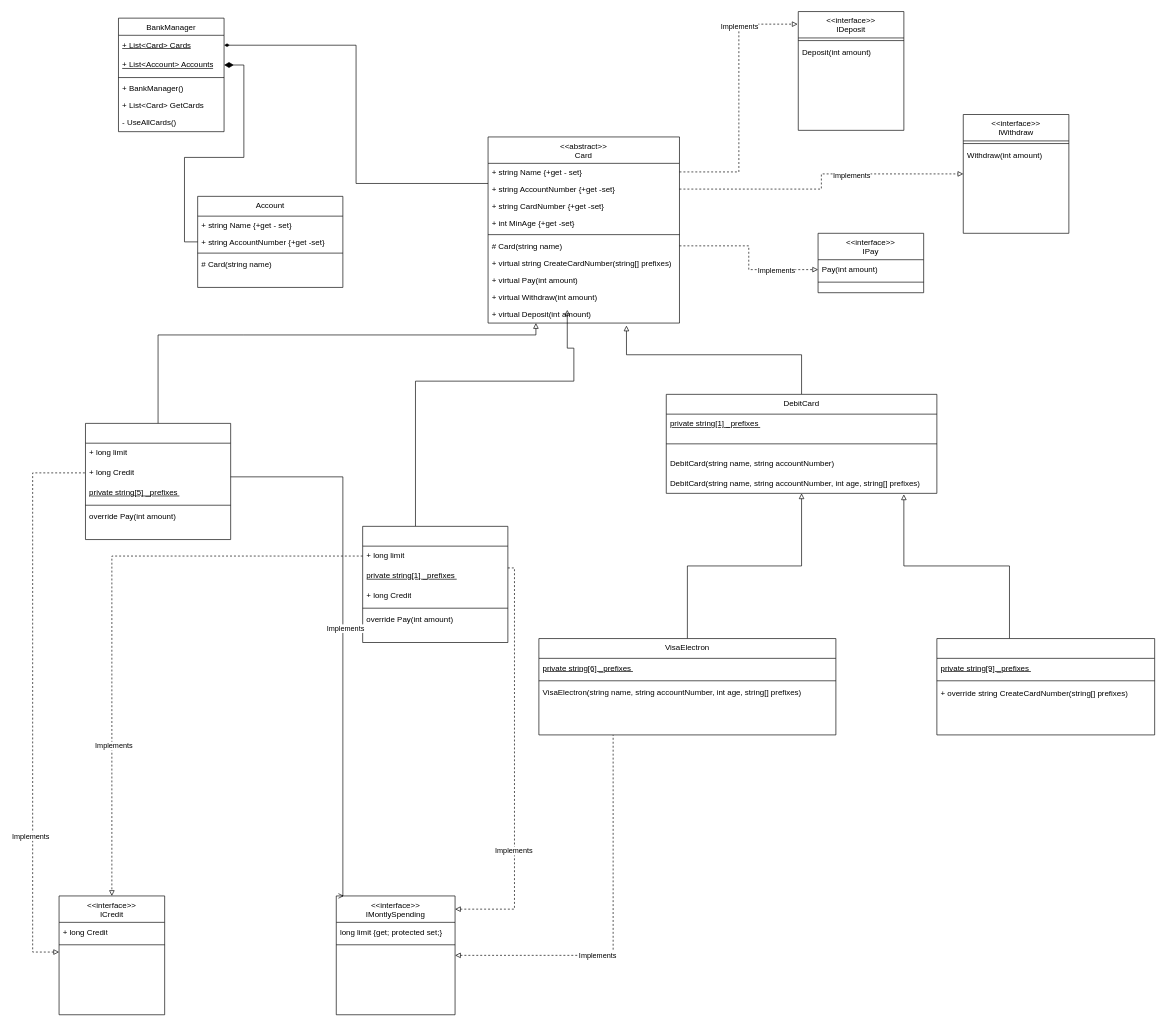
Image size: 1166x1026. Some labels were removed from this diagram. Each missing label, with the box of its shape:
Maestro: (936, 638, 1155, 735)
Mastercard: (85, 423, 231, 540)
Visa: (362, 526, 508, 643)
